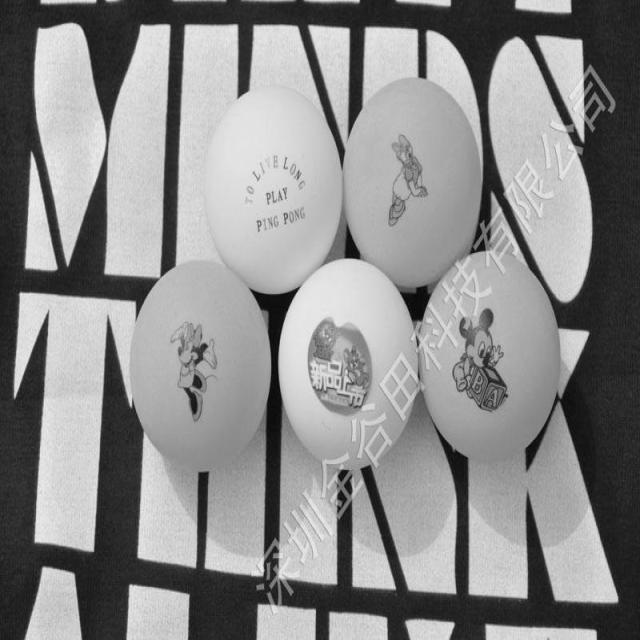ping-pong-ball: (124, 253, 274, 477), (274, 253, 422, 475), (416, 245, 563, 466), (339, 72, 487, 290), (197, 78, 344, 294)
